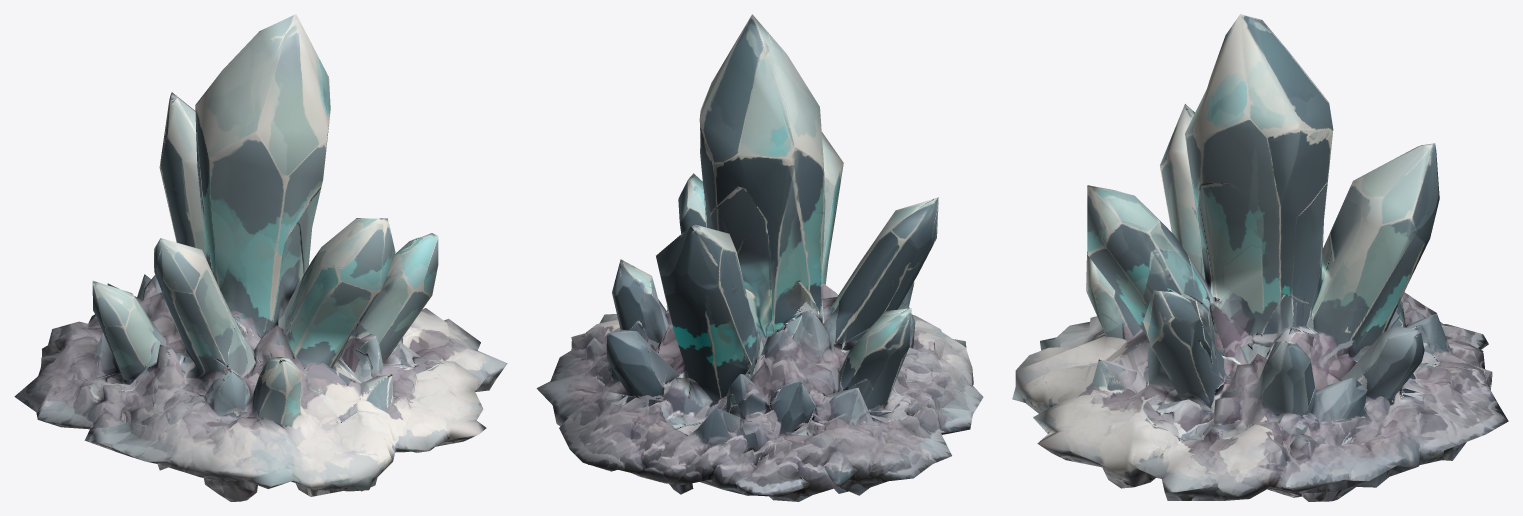
File: PR_IceCrystal_Small.fbx
The picture shows the model from 3 angles, left to right: view 1: azimuth 30°, elevation 25°; view 2: azimuth 150°, elevation 25°; view 3: azimuth 270°, elevation 25°; orthographic projection. The views are drawn at different scales.
Visible parts, largest first — view 1: texture_mapping; view 2: texture_mapping; view 3: texture_mapping.
Boxes of the visible parts, x1,y1,x2,y2 form: texture_mapping: [14, 14, 507, 501]; texture_mapping: [536, 14, 983, 501]; texture_mapping: [1012, 14, 1508, 501].
Size of the model in its own units: 1 by 0.9987 by 1.01.
Materials: 1 (1 with a texture image).
